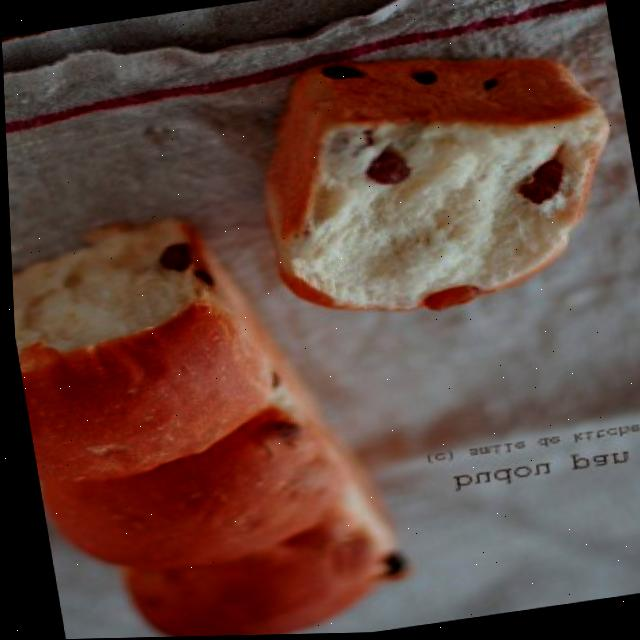面包点心: (208, 12, 626, 339)
